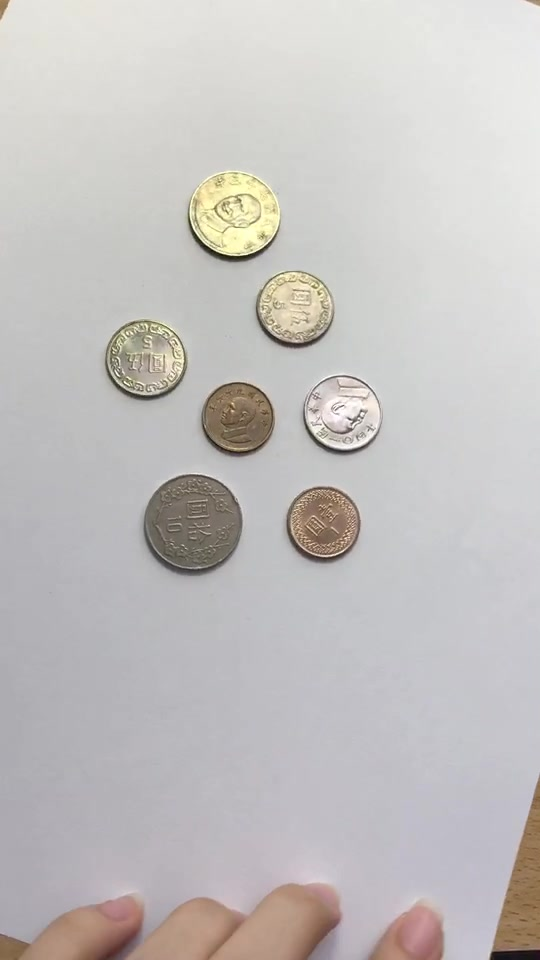1 dallar: (195, 374, 281, 460), (280, 477, 366, 563)
10 dallar: (130, 466, 257, 586), (164, 156, 293, 262)
5 dallar: (95, 308, 190, 409), (244, 252, 339, 353), (298, 361, 393, 462)
